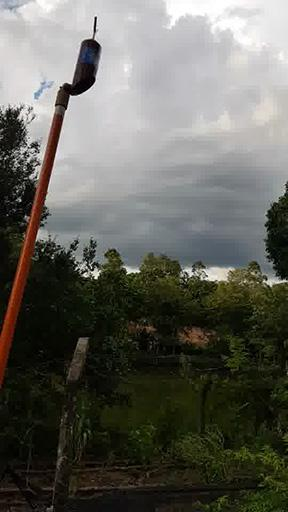Detector_Tensao_Contato: (69, 15, 102, 97)
Vara_Manobra: (1, 93, 68, 371)
